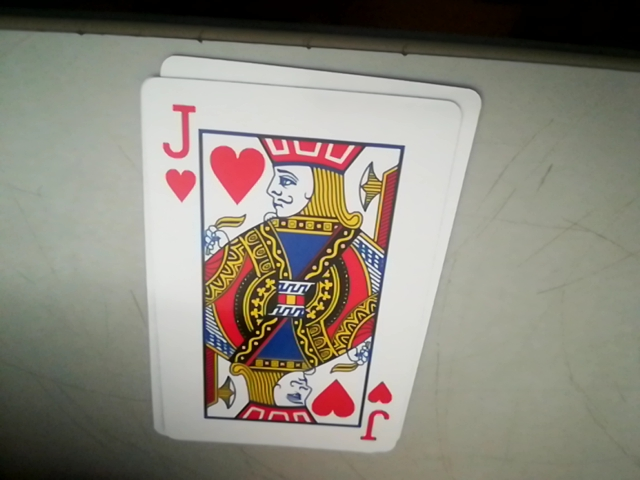hx j: (154, 97, 196, 203), (356, 379, 399, 448)
